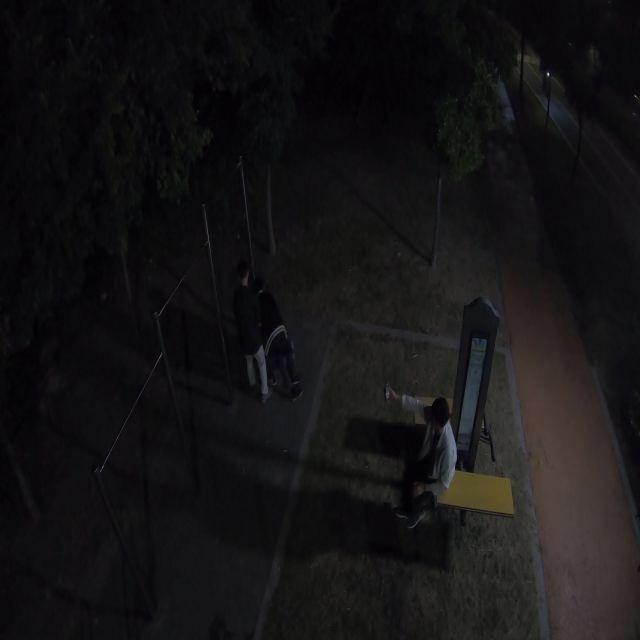fight: (231, 262, 303, 403)
non-fight: (372, 377, 458, 538)
